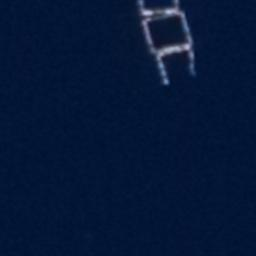square_solid: (137, 8, 199, 56), (132, 1, 186, 18)
